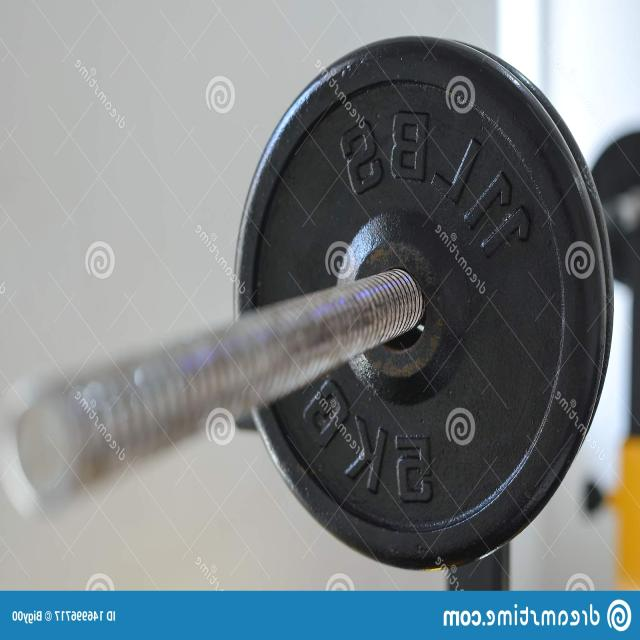barbell_plate_side: (4, 34, 157, 571), (464, 34, 617, 571)
